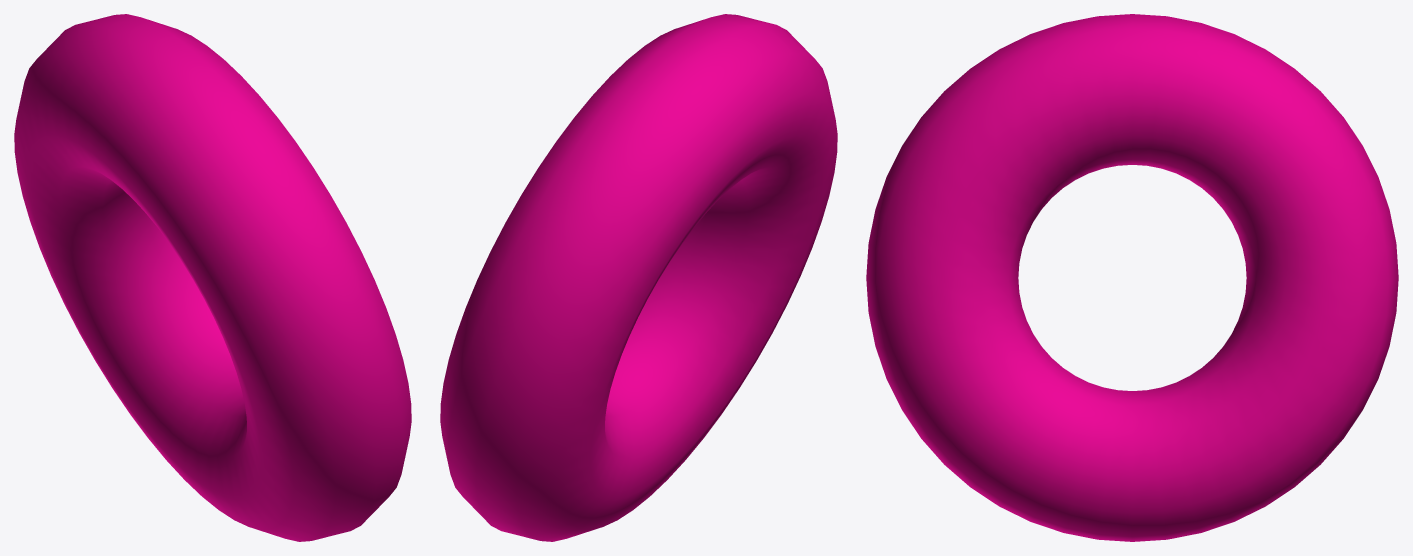
3 renders of one model, left to right at view 1: azimuth 30°, elevation 25°; view 2: azimuth 150°, elevation 25°; view 3: azimuth 270°, elevation 25°, orthographic. The views are drawn at different scales.
Visible parts, largest first — view 1: Torus.002; view 2: Torus.002; view 3: Torus.002.
Part boxes in pixels (box(x1,y1,x2,y2)): Torus.002: box(14, 14, 411, 541); Torus.002: box(440, 14, 837, 541); Torus.002: box(866, 14, 1398, 541).
Bounding box in the file's own units: 2.77 × 5.38 × 5.6.
